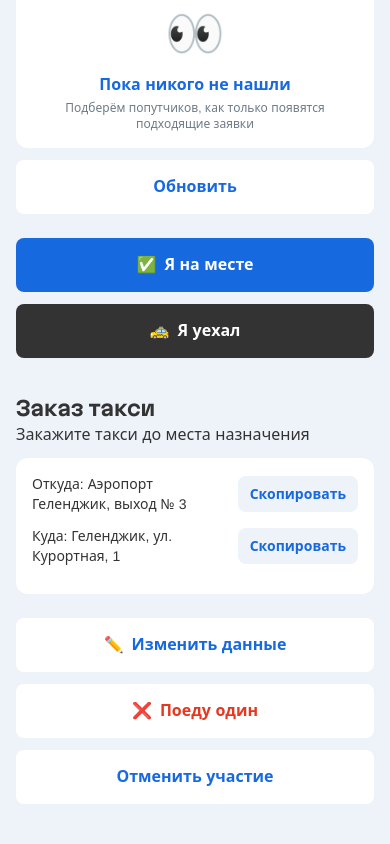
Scenario: MyTrip › такси › адреса копируются, без ссылки Яндекс Go кнопки нет
The image size is (390, 844).
(page scrolled)
expect the heading "Заказ такси" is shown: met, box [16, 396, 155, 420]
expect the text "Закажите такси до места назначения" is shown: met, box [16, 426, 310, 443]
Click the button with aria-label "Скопировать адрес: куда" at (298, 546), box [238, 528, 358, 564]
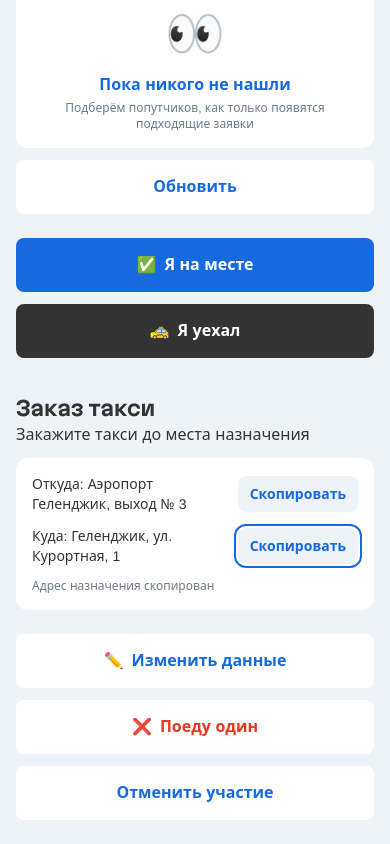
expect the text "Адрес назначения скопирован" is shown: met, box [32, 579, 214, 593]
